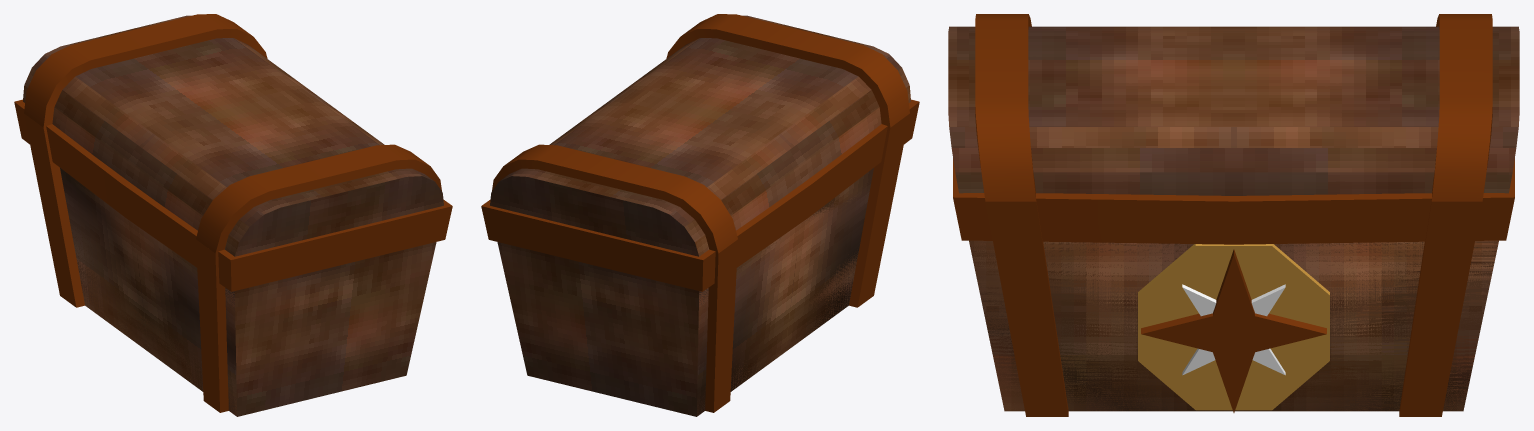
The model's file is code_chest.glb.
3 renders of one model, left to right at view 1: azimuth 30°, elevation 25°; view 2: azimuth 150°, elevation 25°; view 3: azimuth 270°, elevation 25°, orthographic. The views are drawn at different scales.
Visible parts, largest first — view 1: code_chest_top, code_chest_bot; view 2: code_chest_top, code_chest_bot; view 3: code_chest_top, code_chest_bot, rose_des_vents.
Part boxes in pixels (box(x1,y1,x2,y2)): code_chest_top: box(14, 14, 452, 291); code_chest_bot: box(24, 113, 436, 416); code_chest_top: box(481, 14, 919, 291); code_chest_bot: box(497, 113, 909, 416); code_chest_top: box(948, 14, 1519, 244); code_chest_bot: box(969, 201, 1498, 416); rose_des_vents: box(1138, 244, 1329, 412).
Size of the model in its own units: 0.6412 by 0.6161 by 1.07.
Materials: 5 (3 with a texture image).
